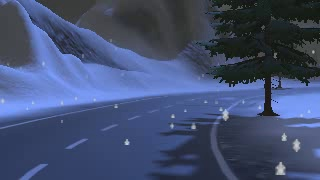Lane: (1, 89, 263, 179)
